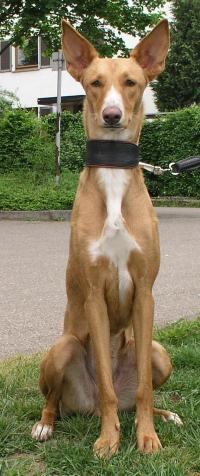Ibizan_hound: (30, 15, 185, 462)
